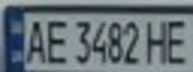2: (121, 17, 145, 65)
3: (69, 17, 93, 65)
4: (90, 17, 109, 64)
8: (106, 17, 127, 65)
A: (21, 16, 48, 65)
E: (160, 16, 193, 65), (42, 16, 69, 65)
H: (142, 16, 172, 65)
